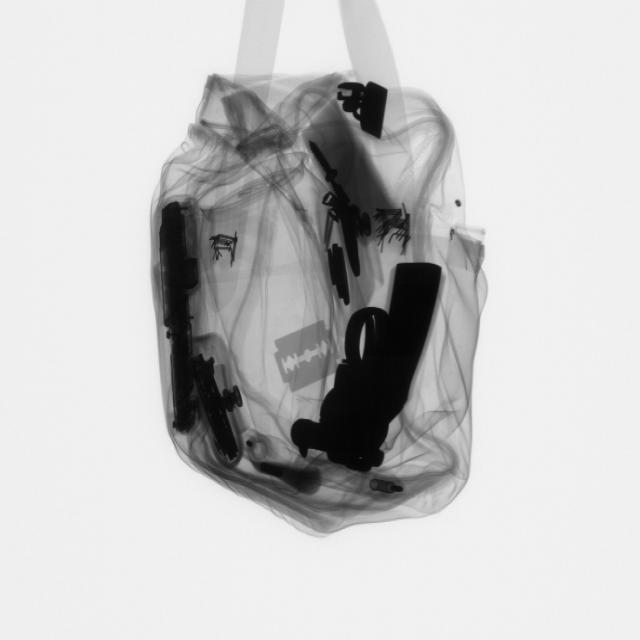BLADE: (270, 310, 343, 397)
GUN: (298, 253, 447, 476)
SCREW: (296, 133, 349, 190)
